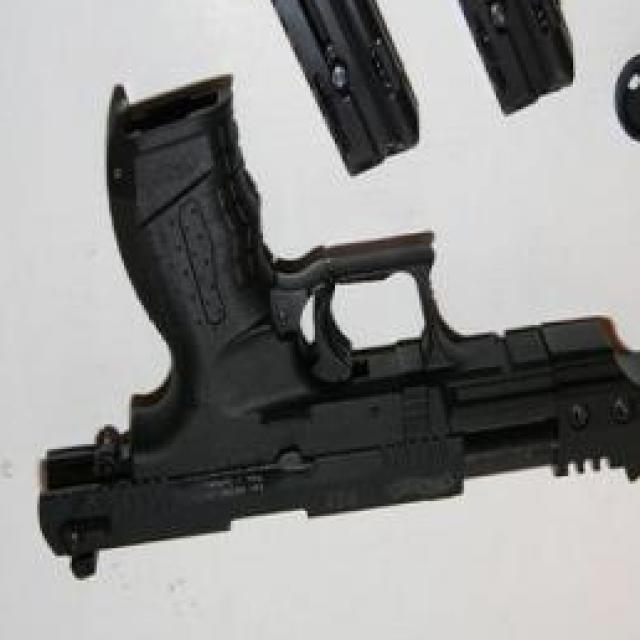pistol: (37, 70, 640, 580)
